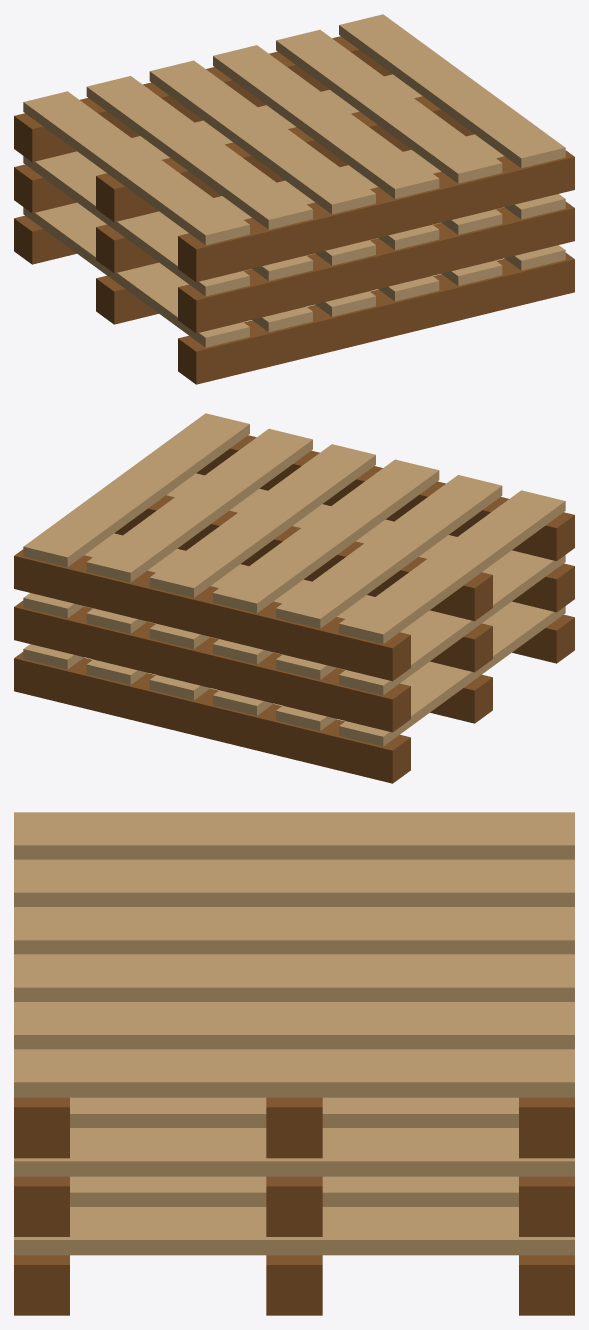
File: pallet_stack.glb
3 views of the same model, one above another, from view 1: azimuth 30°, elevation 25°; view 2: azimuth 150°, elevation 25°; view 3: azimuth 270°, elevation 25° (orthographic). The views are drawn at different scales.
Visible parts, largest first — view 1: pallet_stack; view 2: pallet_stack; view 3: pallet_stack.
Boxes of the visible parts, <box> form: pallet_stack: <box>14,14,574,384</box>; pallet_stack: <box>14,413,574,783</box>; pallet_stack: <box>14,812,574,1315</box>.
Bounding box in the file's own units: 1.2 × 0.445 × 1.
